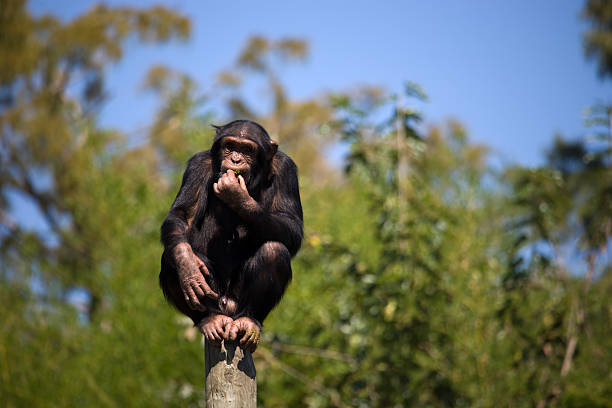chimpanzee: (198, 107, 284, 217)
